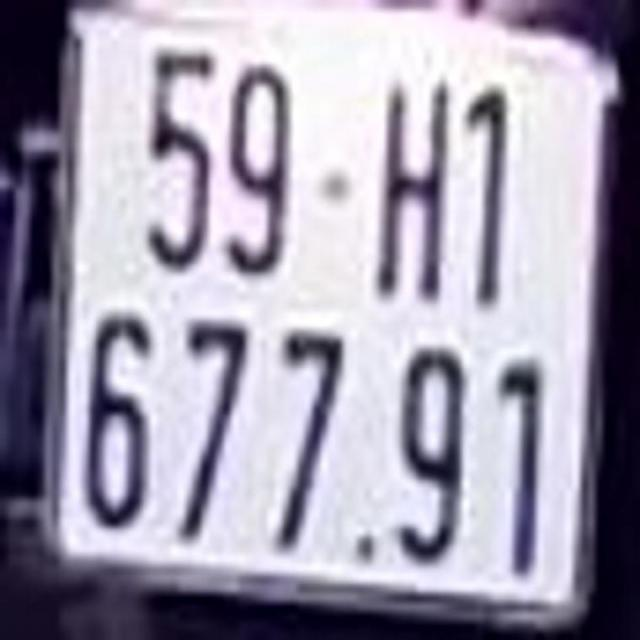1: (494, 339, 564, 583), (459, 72, 517, 310)
5: (148, 50, 218, 273)
6: (89, 312, 154, 540)
7: (172, 307, 252, 544), (276, 313, 347, 554)
9: (392, 331, 468, 567), (223, 48, 291, 284)
H: (374, 70, 453, 310)
